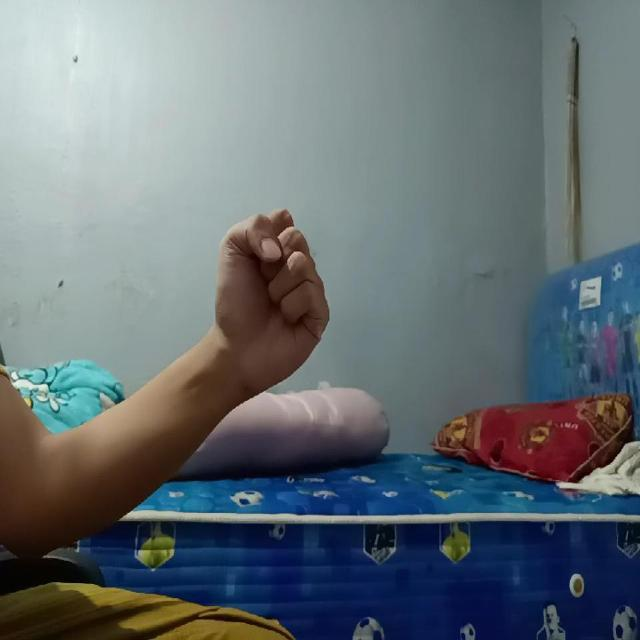fist: (214, 206, 334, 392)
